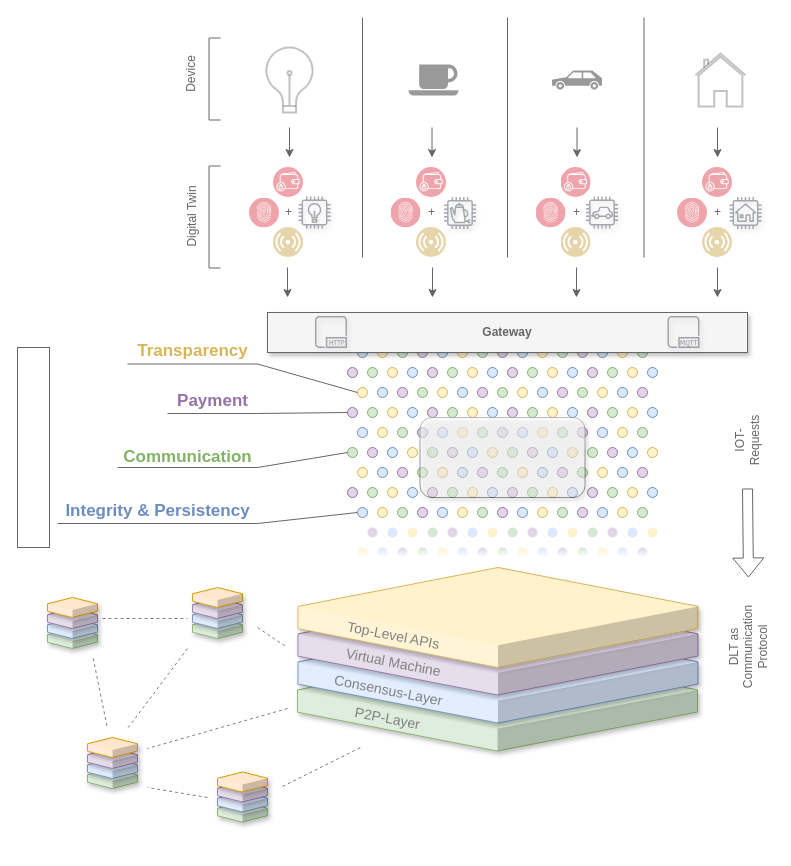
Some shapes in this 791 by 866 pixel diagram are drawn without their labels. Each missing label, with the centre of its shape:
"Internet" belongs at point (503, 458).
"IOT-Enabler" belongs at point (33, 447).
